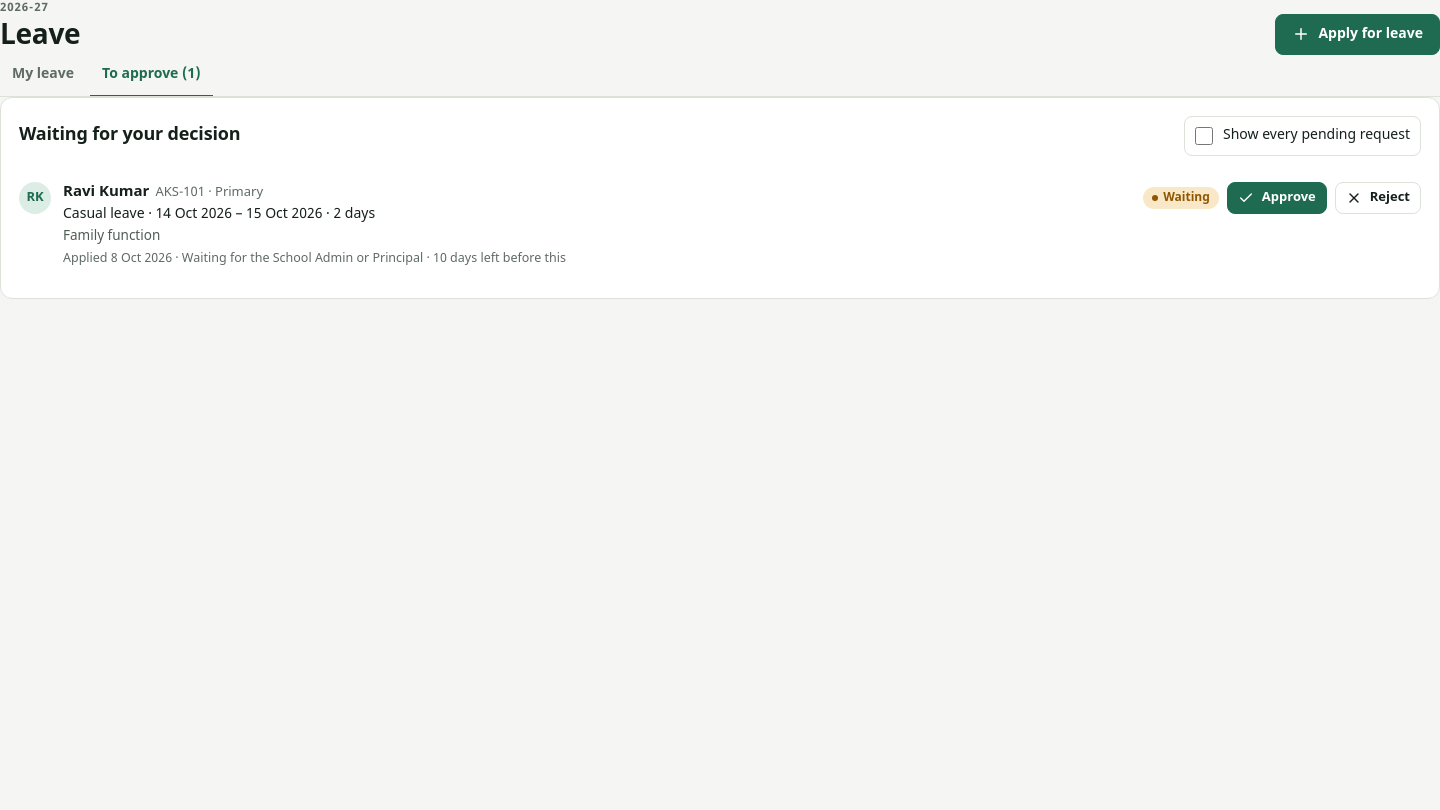
Test: approver inbox › approves with an optional comment and refreshes the list
Click the button with aria-label "Approve leave of Ravi Kumar": {"x": 1277, "y": 198} [1227,182,1327,214]
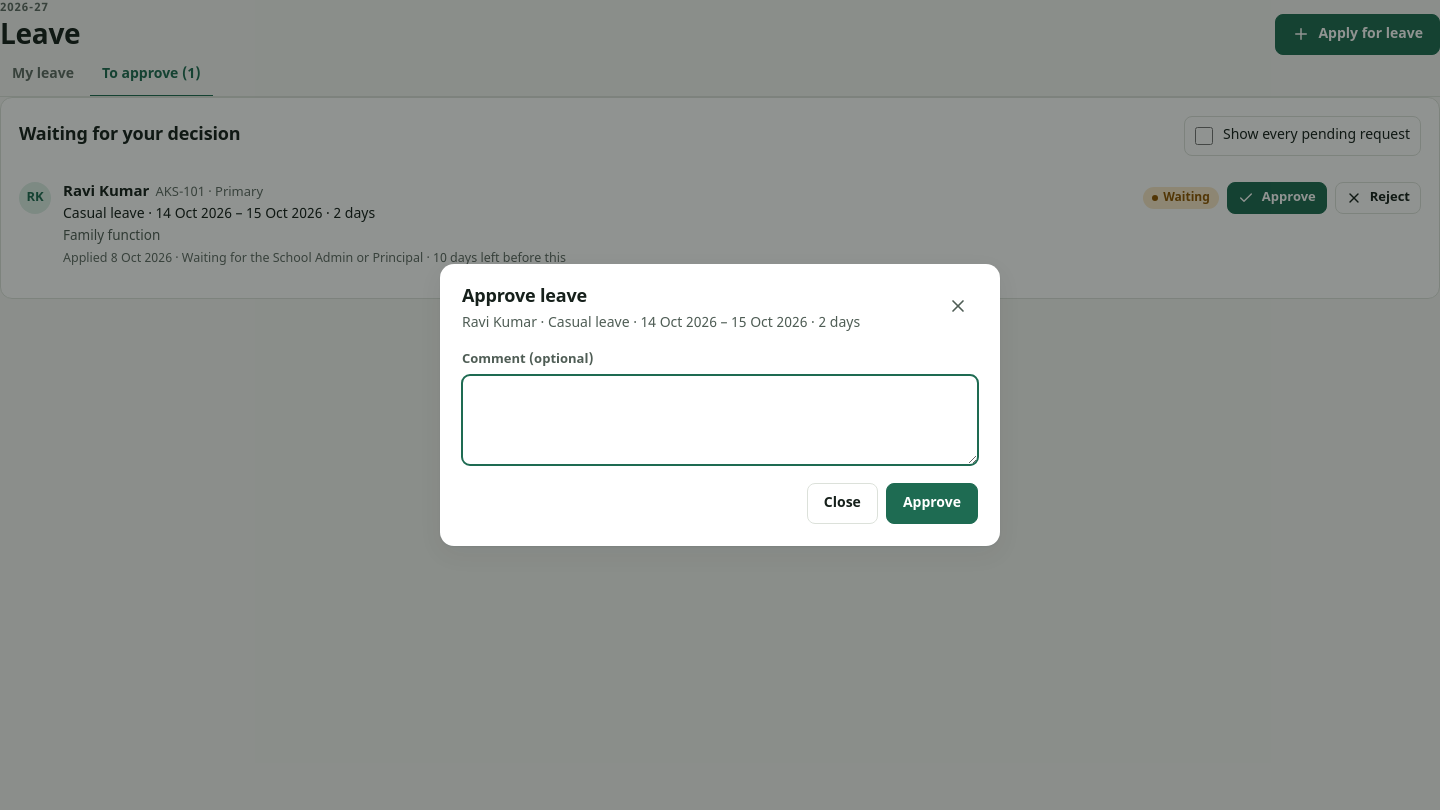
Click the button "Approve": {"x": 932, "y": 503} [886,483,978,524]
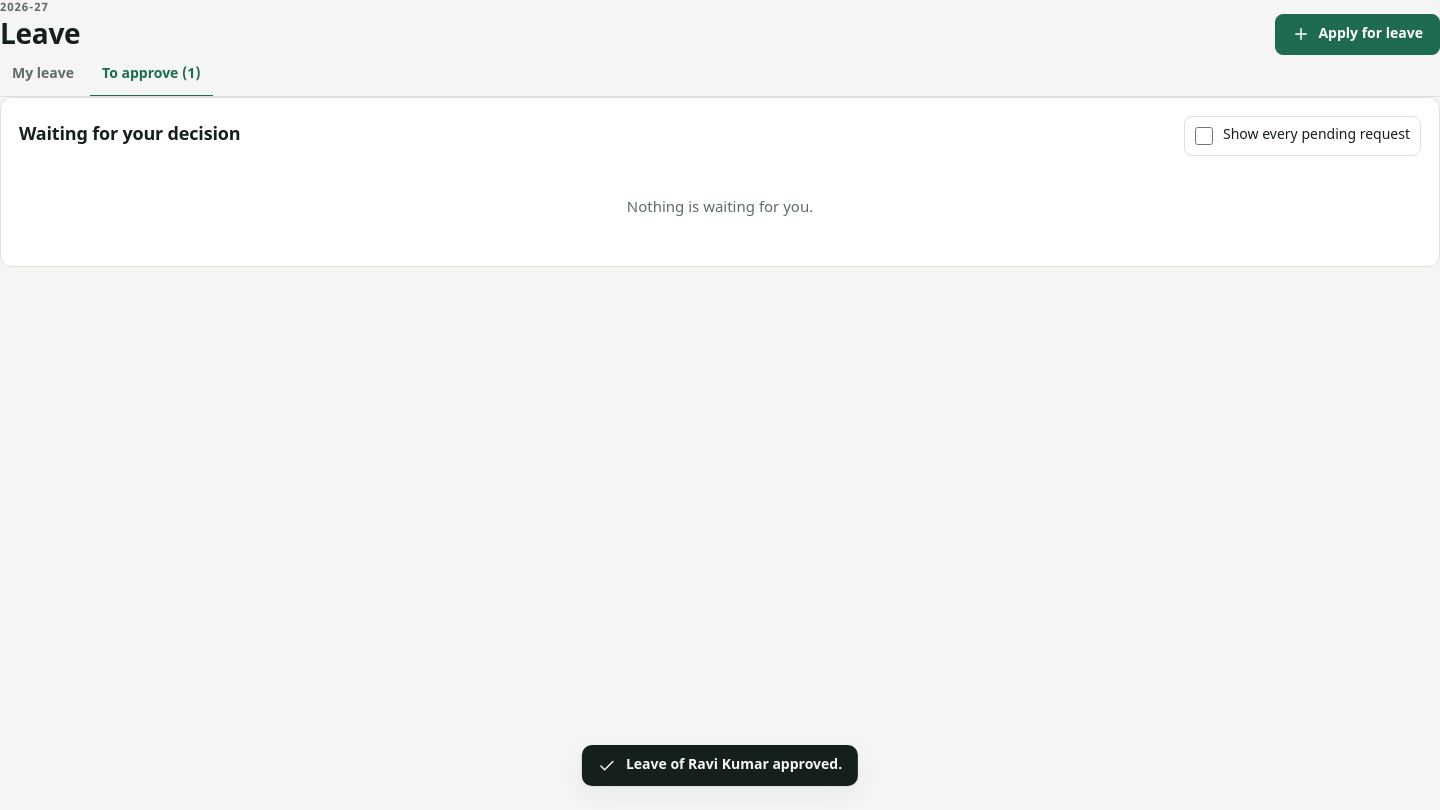
Check: the text "Leave of Ravi Kumar approved." is shown, box [582,745,858,786]
Check: the text "Nothing is waiting for you." is shown, box [627,199,813,218]
